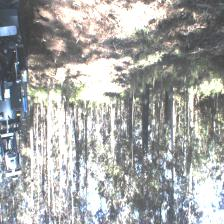trunktrack_idkeyframe: (141, 84, 149, 136)
